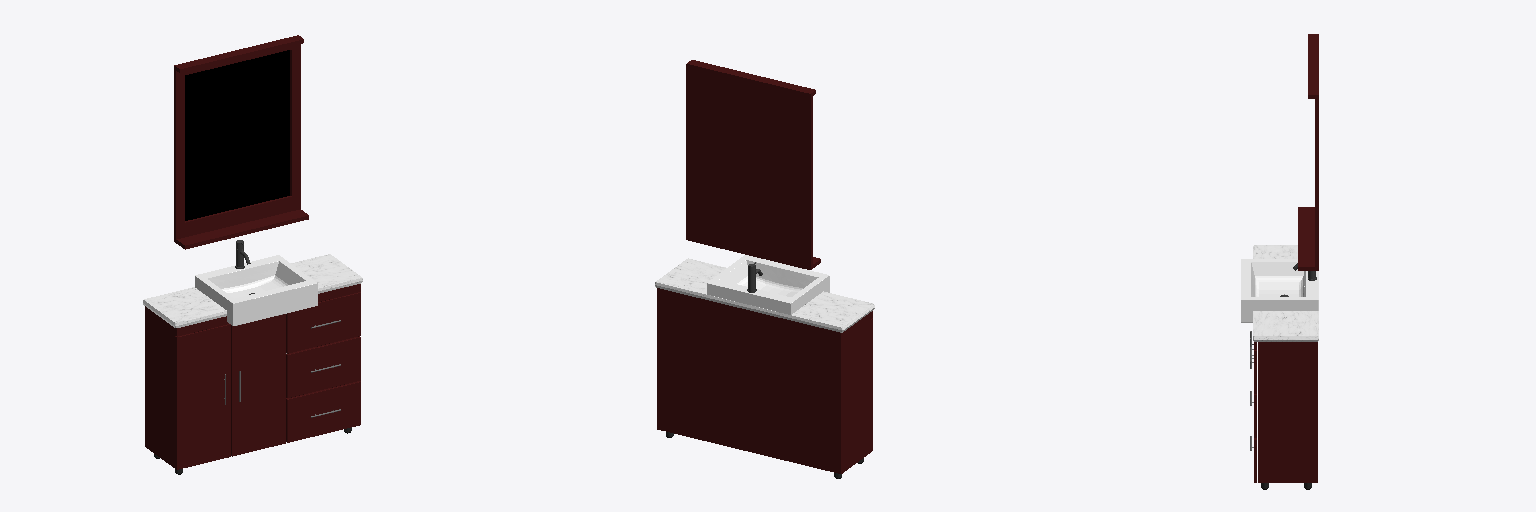
The picture shows the model from 3 angles: view 1: azimuth 30°, elevation 25°; view 2: azimuth 150°, elevation 25°; view 3: azimuth 270°, elevation 25°; orthographic projection.
Parts seen in each view (by area): view 1: mirror_Cube.025, mirror_frame_Cube.024, right_door_cabinet_Cube.020, left_door_cabinet_Cube.021, sink_Cube, base_Cube.002, marble_Cube.001, middle_drawer_Cube.013, bottom_drawer_Cube.014, top_drawer_Cube.004, trim_Cube.003; view 2: base_Cube.002, mirror_frame_Cube.024, sink_Cube, marble_Cube.001; view 3: base_Cube.002, sink_Cube, marble_Cube.001, mirror_frame_Cube.024.
Part boxes in pixels (x1,y1,x2,y2): mirror_Cube.025: (185, 50, 289, 220); mirror_frame_Cube.024: (174, 35, 308, 249); right_door_cabinet_Cube.020: (175, 324, 230, 469); left_door_cabinet_Cube.021: (231, 314, 285, 456); sink_Cube: (195, 255, 317, 325); base_Cube.002: (145, 306, 174, 467); marble_Cube.001: (143, 254, 362, 327); middle_drawer_Cube.013: (286, 336, 360, 397); bottom_drawer_Cube.014: (286, 381, 360, 442); top_drawer_Cube.004: (286, 292, 360, 353); trim_Cube.003: (175, 284, 360, 336); base_Cube.002: (657, 288, 870, 473); mirror_frame_Cube.024: (686, 60, 820, 269); sink_Cube: (707, 255, 829, 314); marble_Cube.001: (655, 258, 874, 332); base_Cube.002: (1258, 342, 1317, 482); sink_Cube: (1241, 259, 1318, 322); marble_Cube.001: (1253, 245, 1318, 341); mirror_frame_Cube.024: (1298, 34, 1318, 270).
Size of the model in its own units: 1.07 by 2.08 by 0.3852.
10 materials, 1 textured.